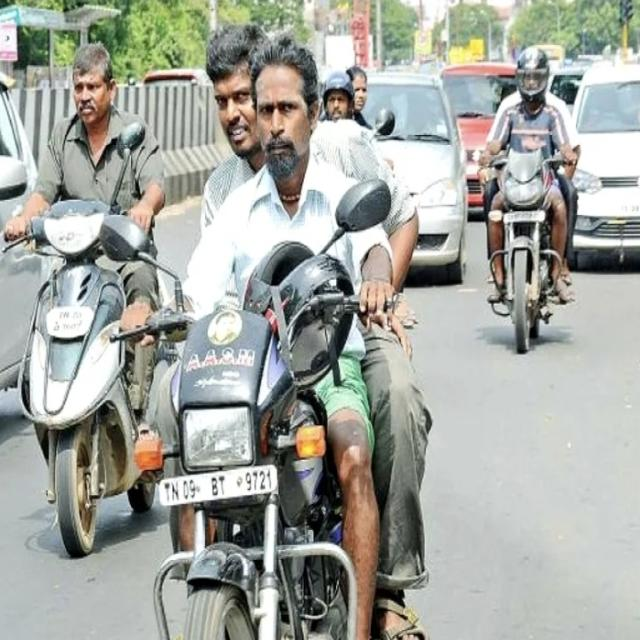WithHelmet: (479, 44, 579, 304), (319, 70, 355, 128)
WithoutHelmet: (118, 29, 397, 640), (197, 23, 431, 589), (6, 40, 164, 484), (348, 65, 373, 131)
